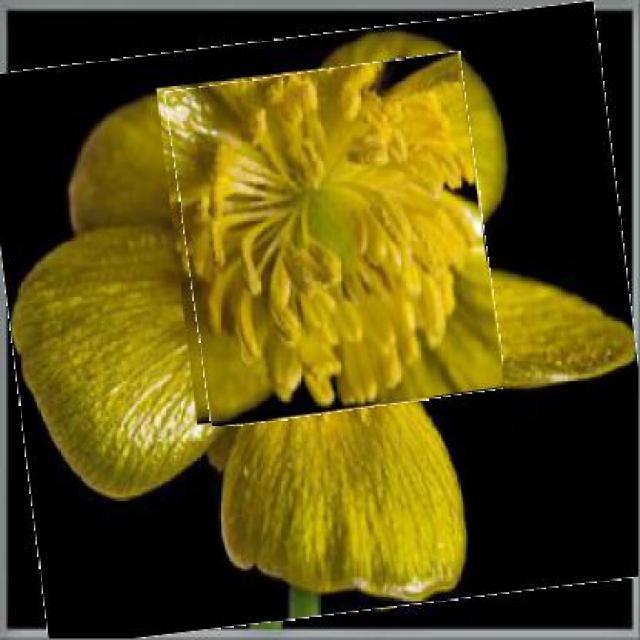Flower: (0, 17, 638, 631), (175, 60, 494, 418)
